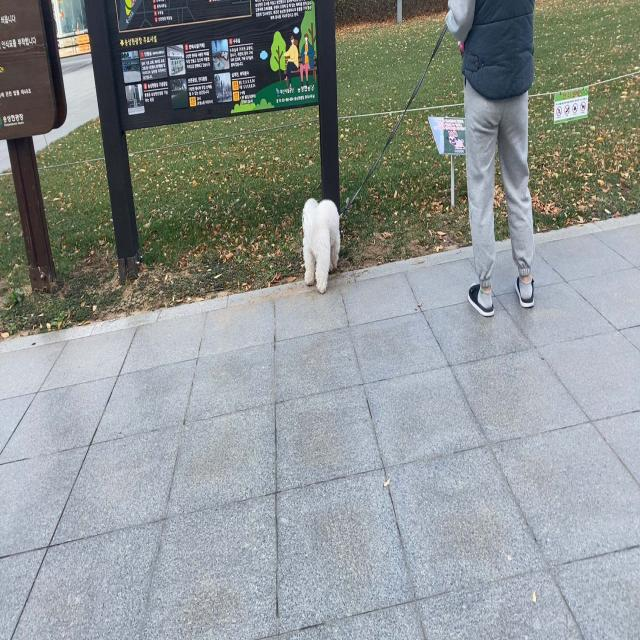Leashed_Dog: (302, 0, 478, 297)
